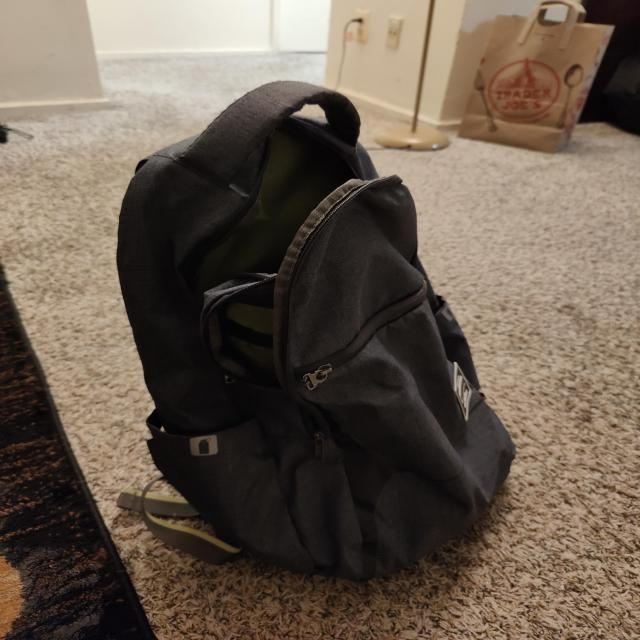bag: (148, 80, 500, 540)
